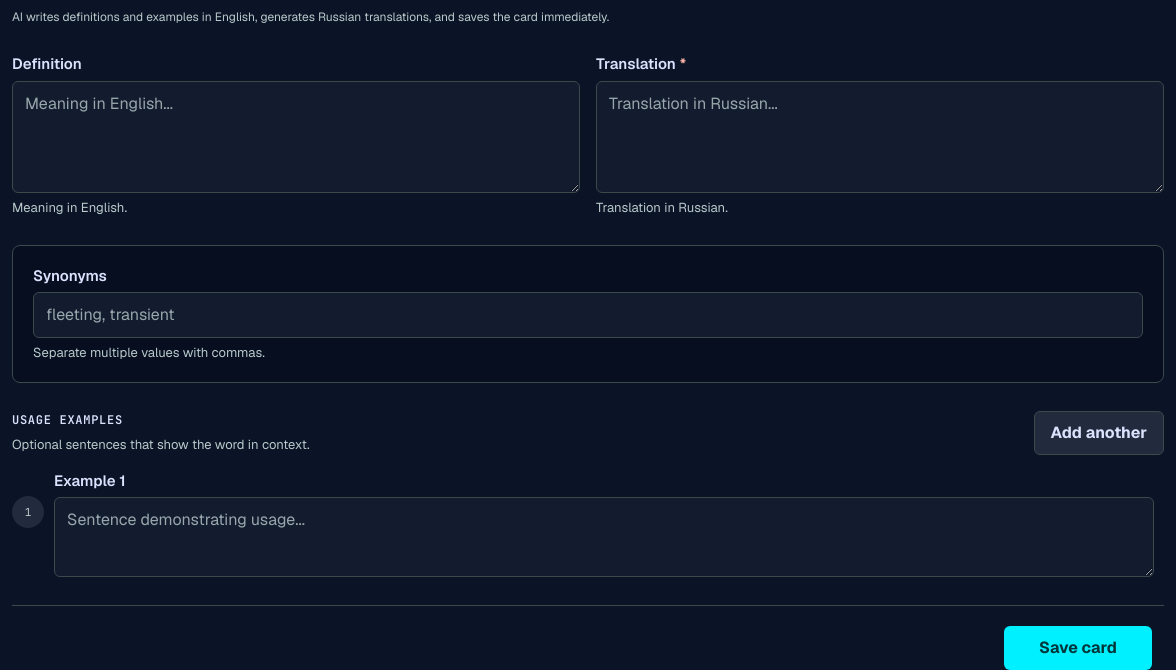
Test: AddCardForm › shows client validation before submitting an empty word or phrase
(page scrolled)
Click the button "Save card" at (1078, 648), box [1004,626,1152,669]
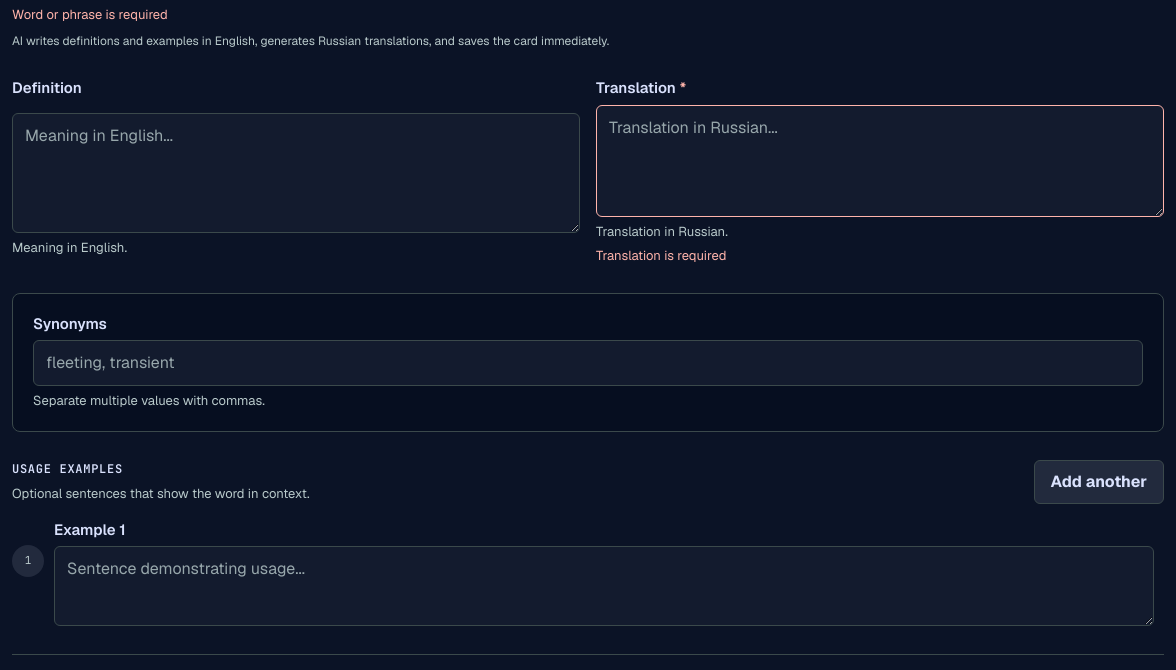
Check: the text "Word or phrase is required" is shown, box [12,6,168,23]
